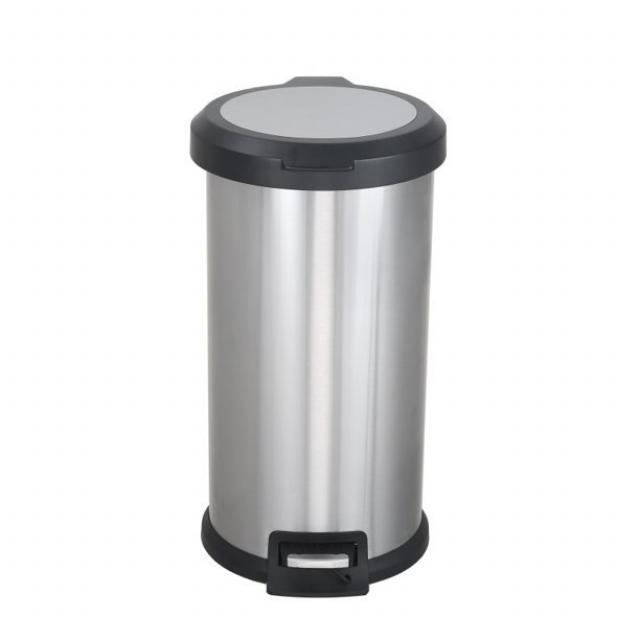Dumpster: (190, 71, 447, 598)
